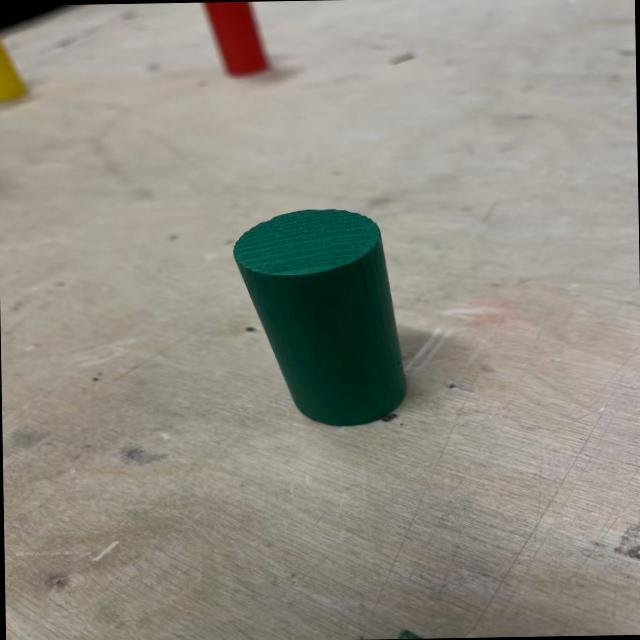green_cylinder: (230, 206, 408, 428)
